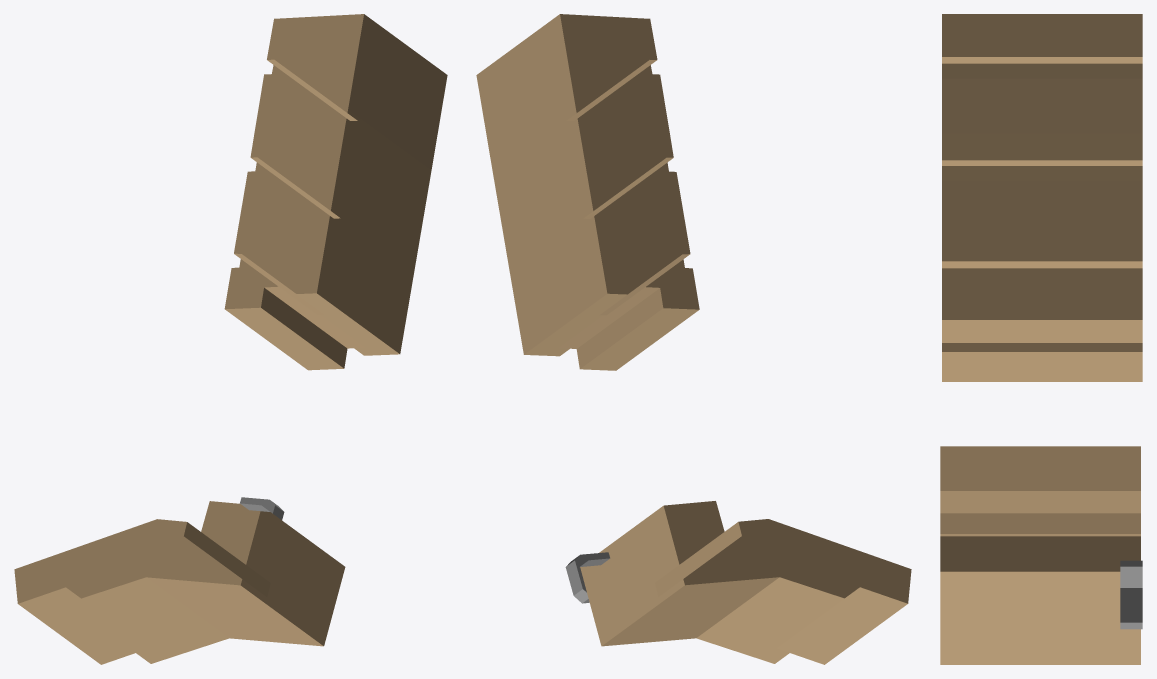
3 views of the same model, side by side, from view 1: azimuth 30°, elevation 25°; view 2: azimuth 150°, elevation 25°; view 3: azimuth 270°, elevation 25° (orthographic). The views are drawn at different scales.
Parts seen in each view (by area): view 1: 0_1_3_2_2_1_1_3; view 2: 0_1_3_2_2_1_1_3; view 3: 0_1_3_2_2_1_1_3.
Boxes of the visible parts, x1,y1,x2,y2 form: 0_1_3_2_2_1_1_3: [14, 14, 447, 664]; 0_1_3_2_2_1_1_3: [476, 14, 911, 664]; 0_1_3_2_2_1_1_3: [940, 14, 1142, 664].
Bounding box in the file's own units: 65.47 × 99.58 × 27.21.
